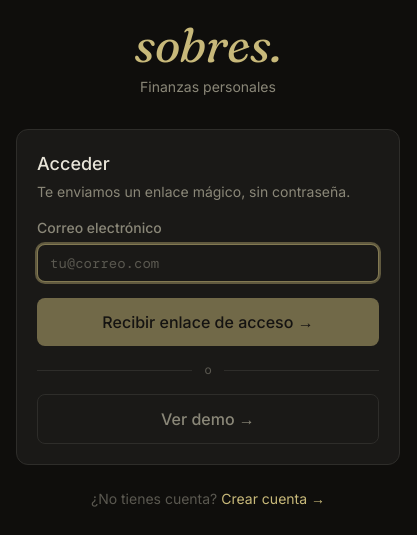
Test: LoginPage › shows error when demo login fails
Click the button "Ver demo →".
click(208, 419)  # box 37,394 -> 379,444
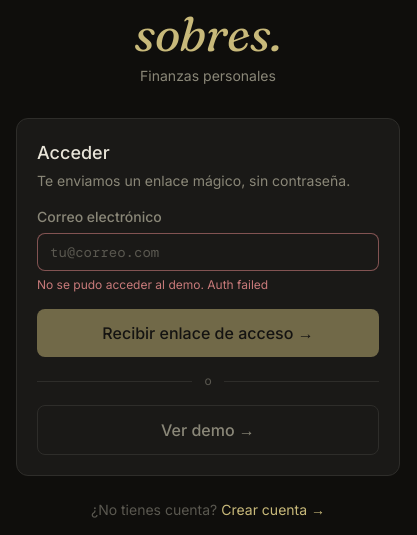
Check: the text "No se pudo acceder al demo. Auth failed" is shown, box 37,277 -> 268,292
